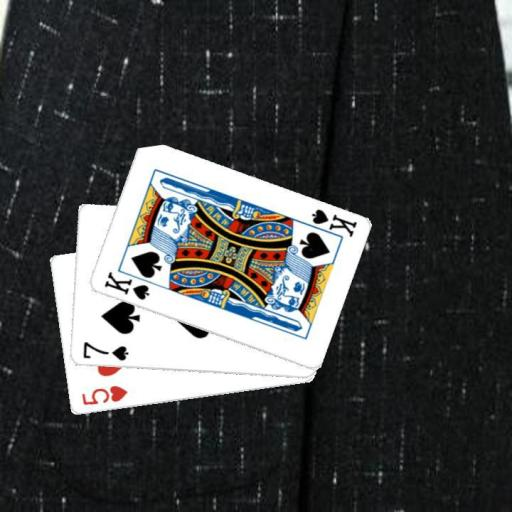5H: (78, 383, 129, 408)
7S: (79, 339, 129, 363)
KS: (300, 206, 358, 241), (100, 269, 151, 302)
